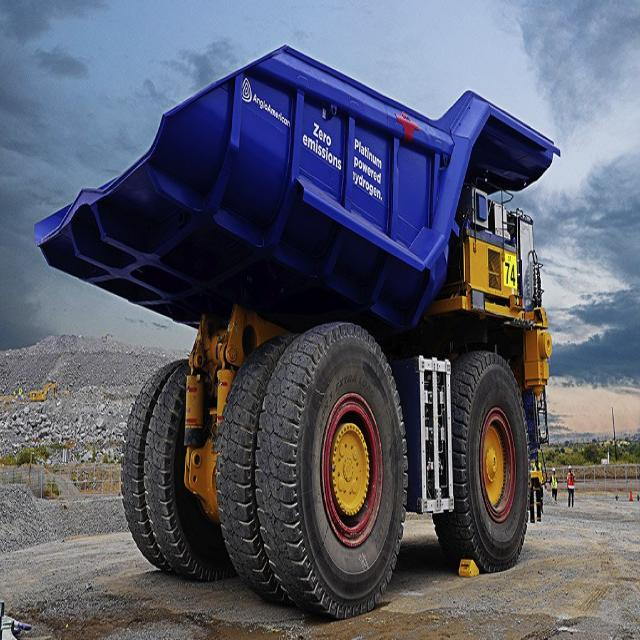dump_truck: (34, 39, 584, 615)
